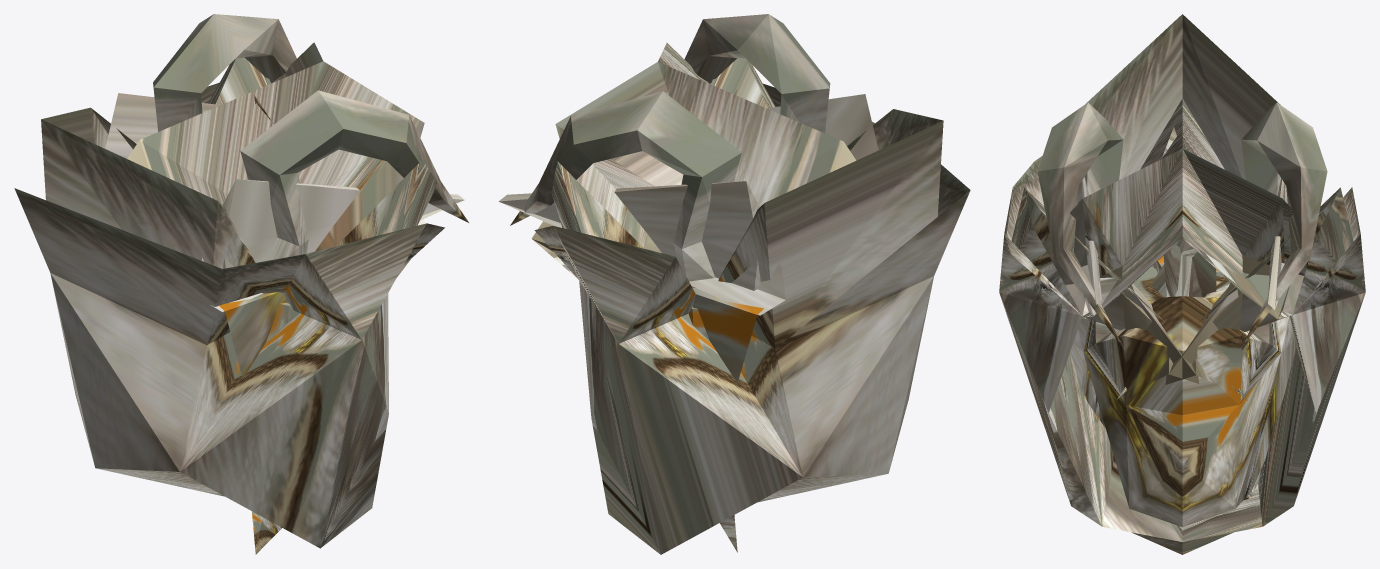
Rendered from mon110.obj.
3 renders of one model, left to right at view 1: azimuth 30°, elevation 25°; view 2: azimuth 150°, elevation 25°; view 3: azimuth 270°, elevation 25°, orthographic. The views are drawn at different scales.
Bounding box in the file's own units: 29.68 × 33.11 × 24.56.
